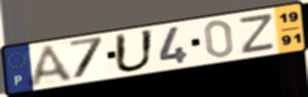0: (202, 19, 235, 60)
4: (157, 25, 193, 66)
7: (68, 35, 107, 82)
A: (27, 43, 77, 89)
U: (113, 28, 156, 74)
Z: (238, 11, 277, 56)
